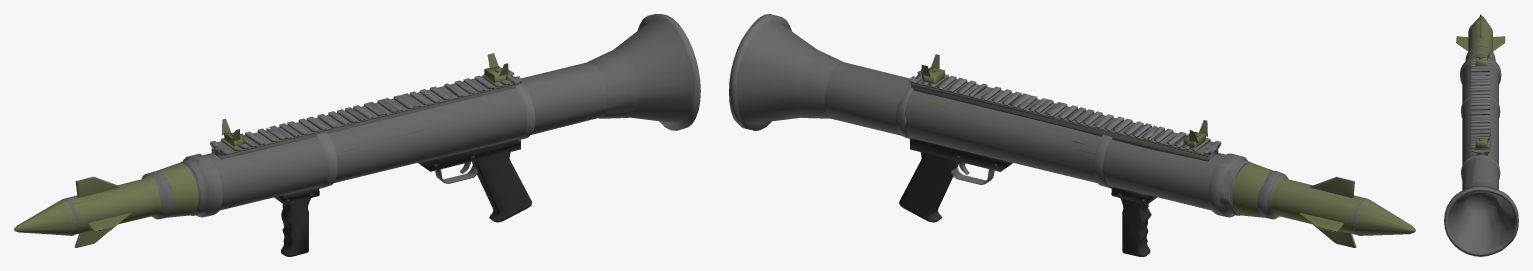
The model's file is ln_hellfire.glb.
3 views of the same model, side by side, from view 1: azimuth 30°, elevation 25°; view 2: azimuth 150°, elevation 25°; view 3: azimuth 270°, elevation 25° (orthographic). The views are drawn at different scales.
Bounding box in the file's own units: 0.9487 × 0.2197 × 0.1465.
1 material, 1 textured.
